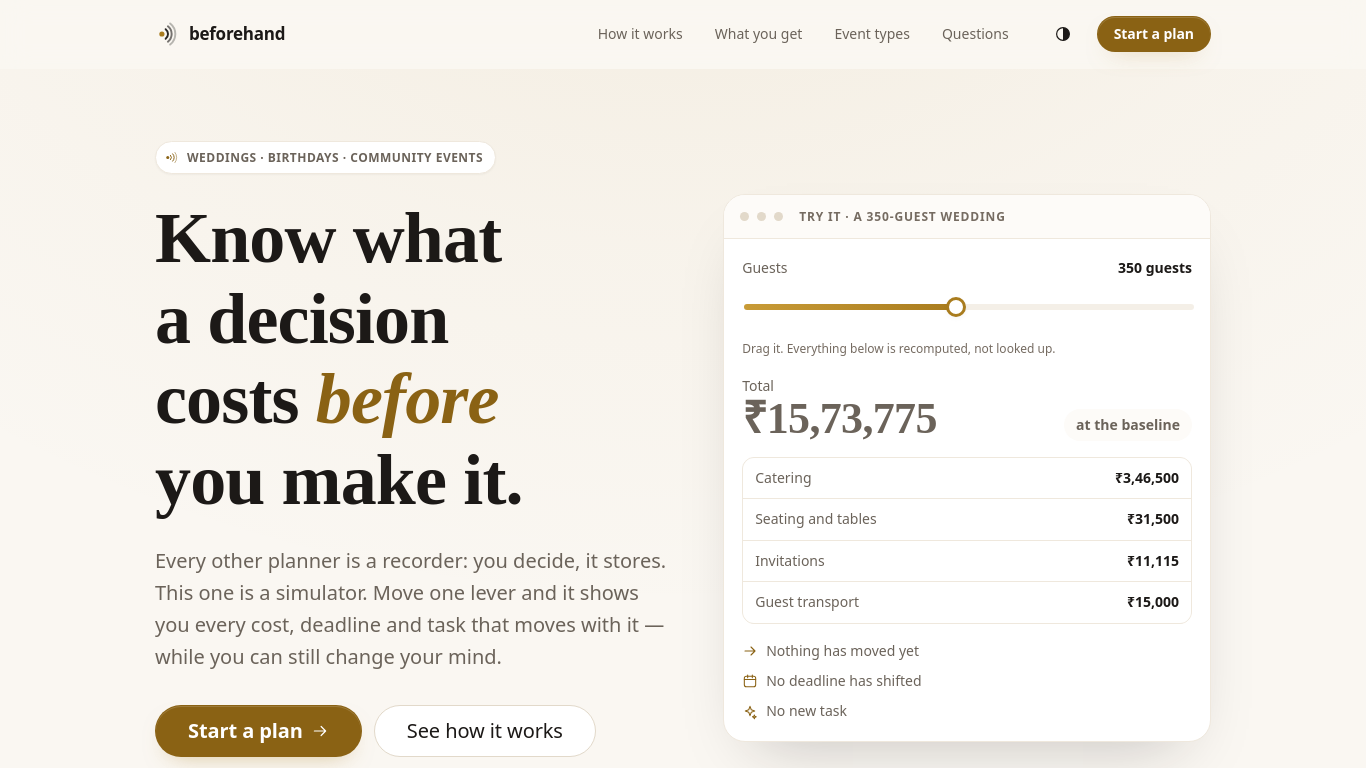
the live demo in the hero › warns when the venue can no longer hold the guests
Set the slider labelled "Guests" to "520" at (1186, 307), box [744,290,1194,324]
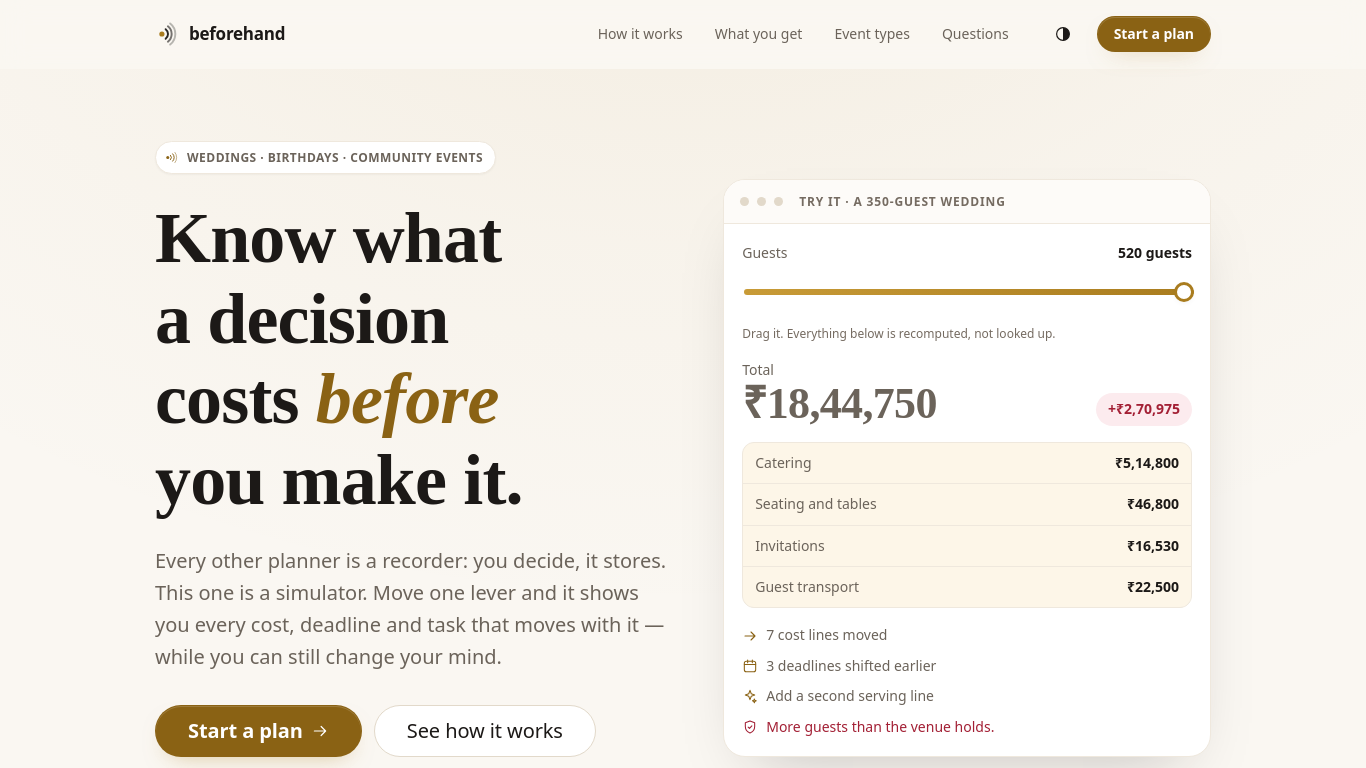
Expected: the text "More guests than the venue holds." is shown, [742,717,994,736]
